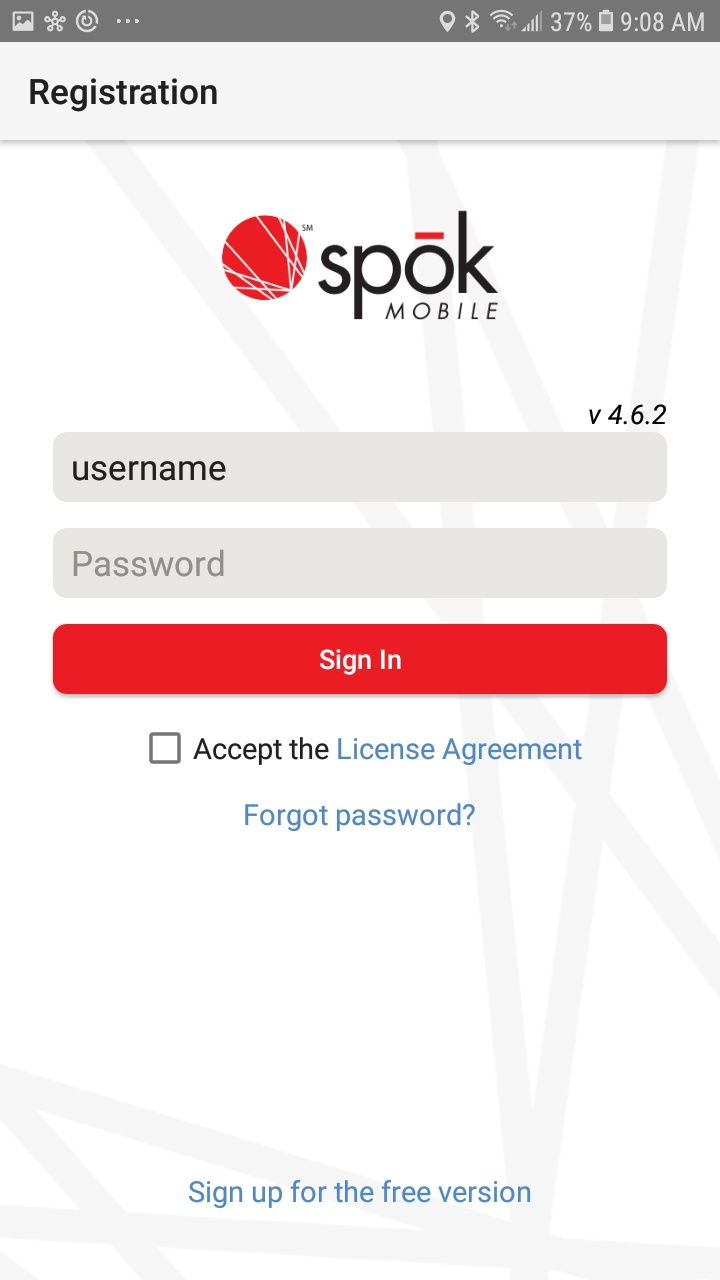BackgroundImage: (1, 141, 720, 1280)
CheckedTextView: (149, 732, 583, 766)
EditText: (53, 432, 668, 503), (53, 528, 667, 599)
Image: (222, 210, 500, 321)
Text: (193, 737, 583, 766), (189, 1180, 531, 1209), (245, 803, 476, 832), (31, 78, 219, 113), (75, 549, 225, 578), (74, 461, 227, 482), (588, 403, 667, 426)
TextButton: (54, 624, 668, 695)
UpperTaskBar: (1, 1, 720, 43)
